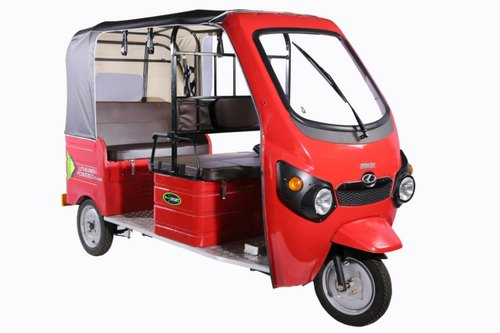rickshaw: (54, 13, 423, 333)
